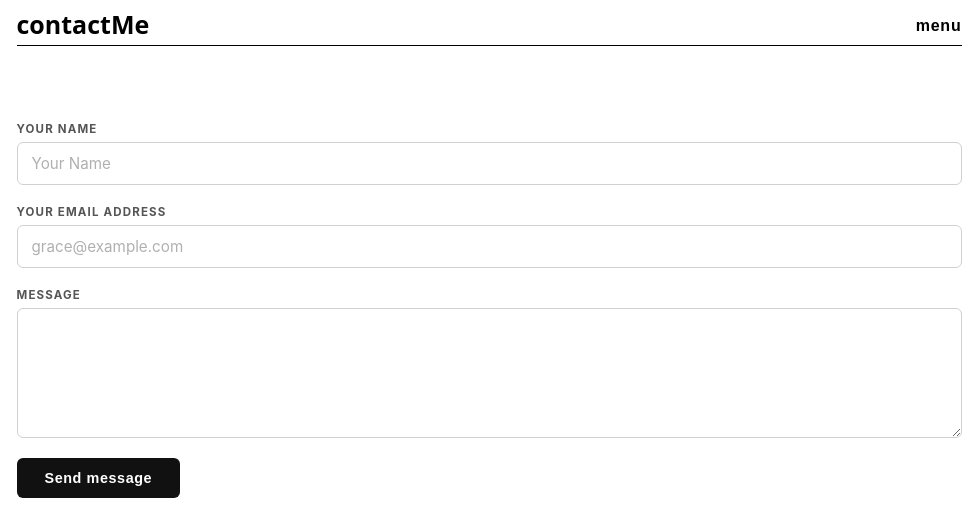
Test: ContactForm › shows success message after successful submission
The image size is (979, 515).
Type "Ada" into the field labelled "Your Name" at (489, 164), box x1=16 y1=142 x2=962 y2=185
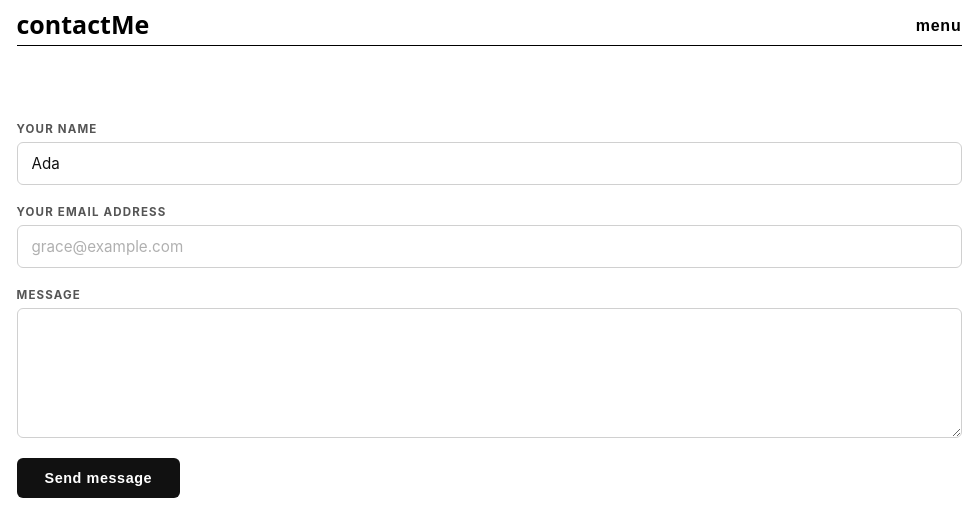
Type "ada@example.com" into the field labelled "Your Email Address" at (489, 246), box x1=16 y1=225 x2=962 y2=268
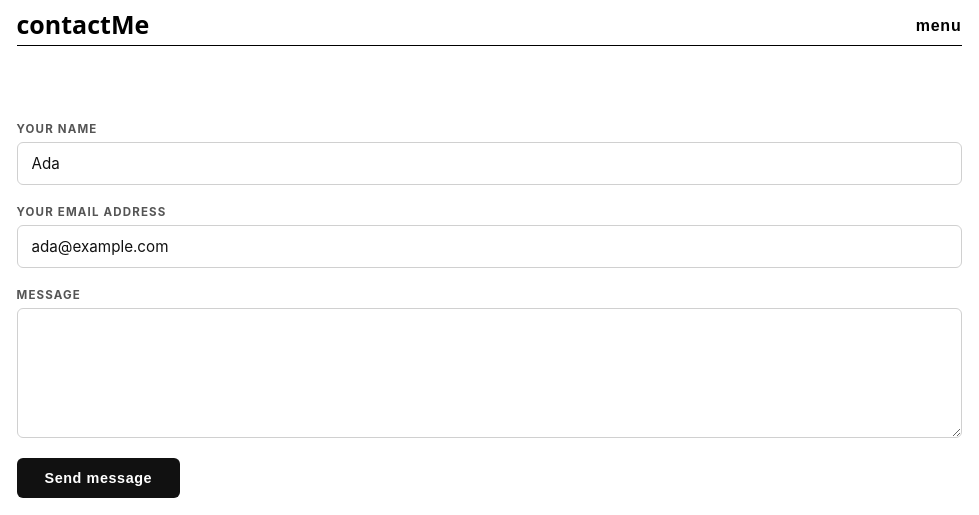
Type "Hello" into the text box labelled "Message" at (489, 373), box x1=16 y1=308 x2=962 y2=438
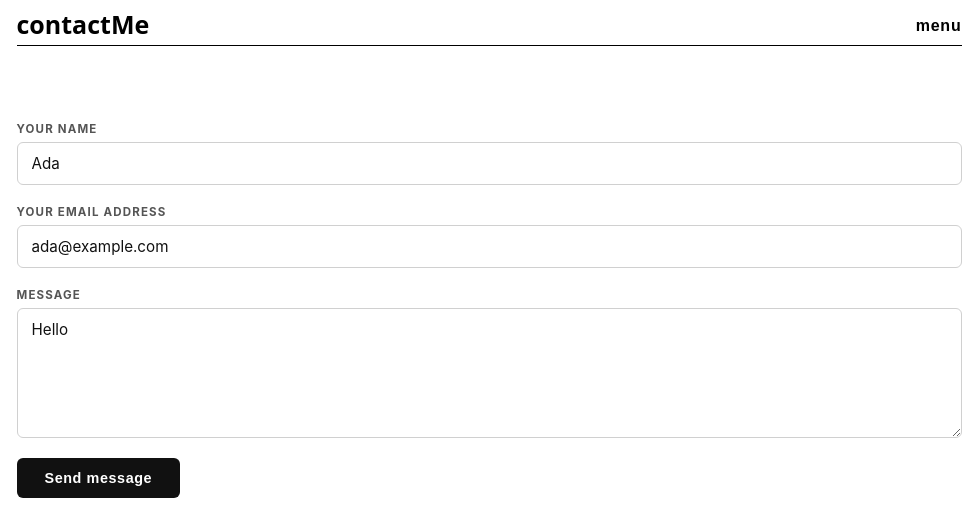
Submit the form
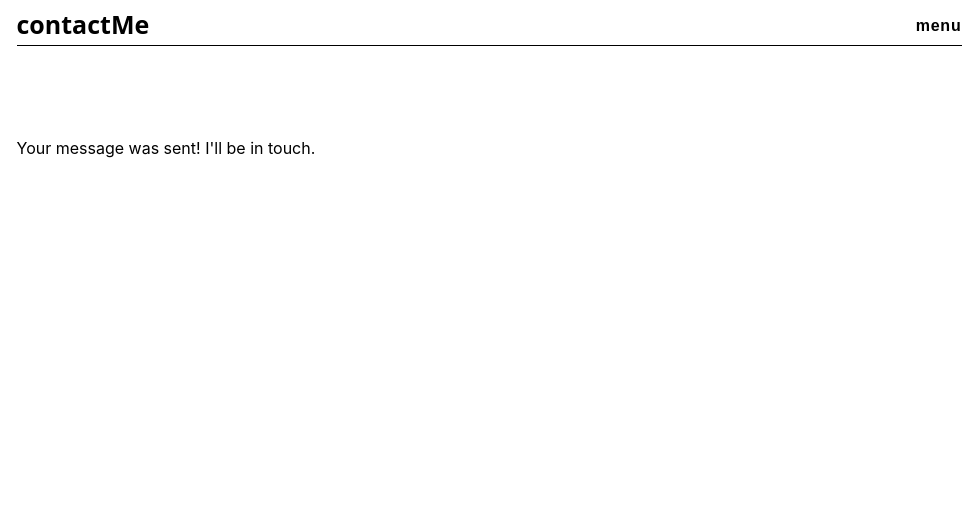
Check: the text "Your message was sent! I'll be in touch." is shown, box x1=16 y1=138 x2=315 y2=158
